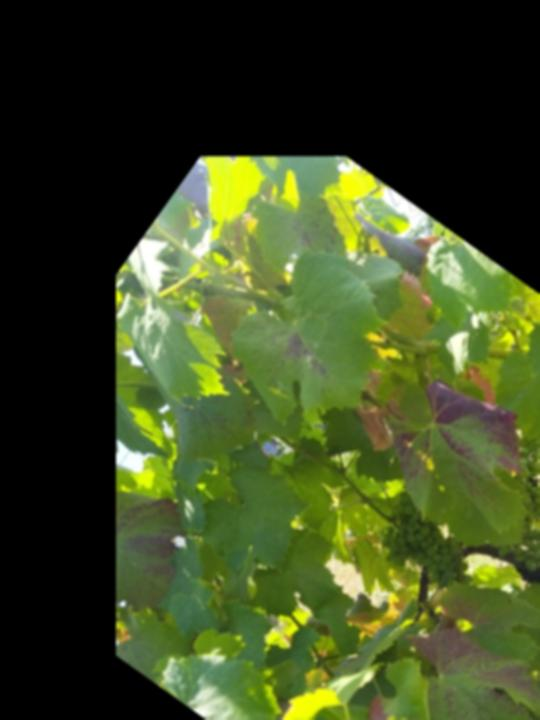grape: (362, 489, 491, 609), (530, 366, 540, 531)
